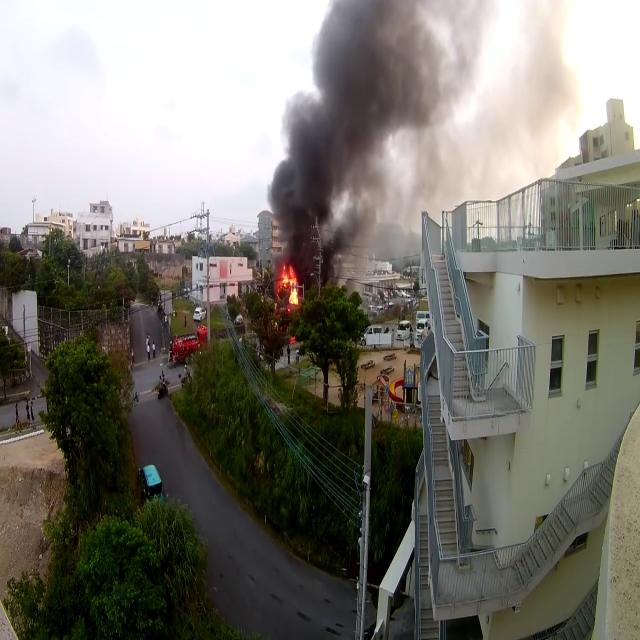smoke: (283, 0, 553, 227)
